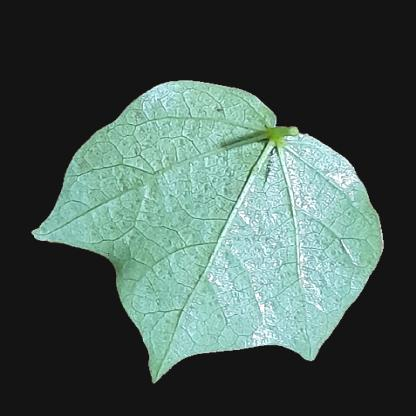healthy: (118, 149, 340, 317), (146, 102, 259, 150), (67, 177, 111, 227)
